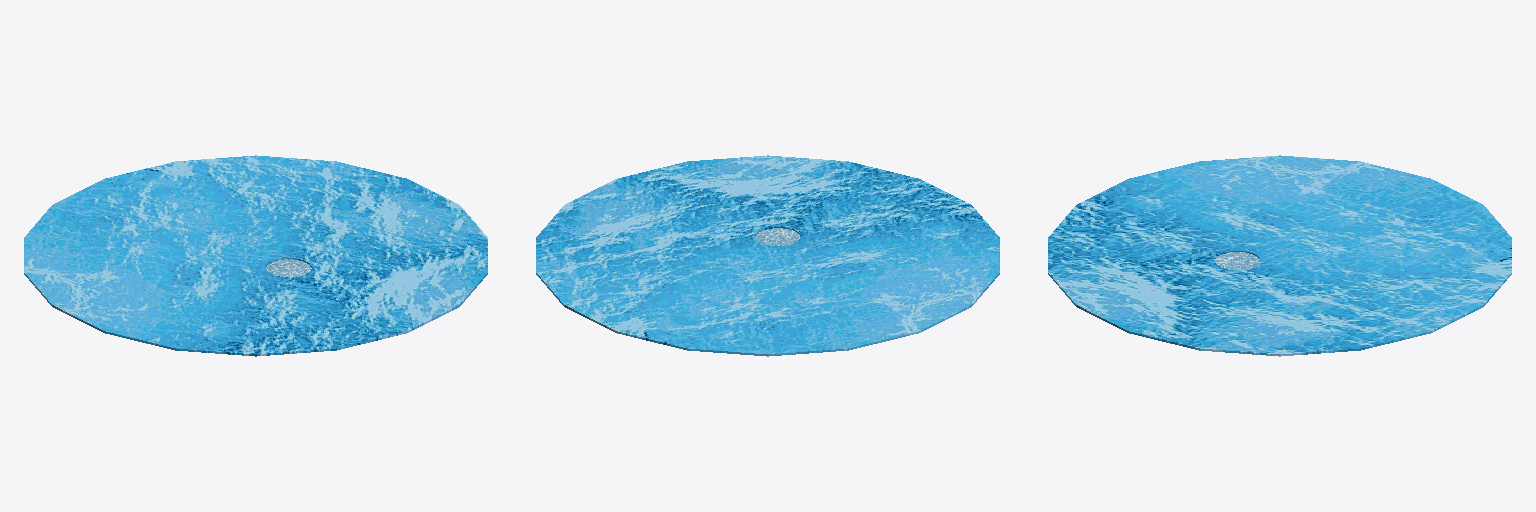
3 views of the same model, side by side, from view 1: azimuth 30°, elevation 25°; view 2: azimuth 150°, elevation 25°; view 3: azimuth 270°, elevation 25° (orthographic).
Visible parts, largest first — view 1: Cylinder001, Cylinder002; view 2: Cylinder001, Cylinder002; view 3: Cylinder001, Cylinder002.
Part boxes in pixels (bbox=[...]): Cylinder001: bbox=[24, 155, 487, 356]; Cylinder002: bbox=[266, 259, 310, 276]; Cylinder001: bbox=[536, 155, 999, 356]; Cylinder002: bbox=[755, 228, 799, 245]; Cylinder001: bbox=[1048, 155, 1511, 356]; Cylinder002: bbox=[1215, 252, 1259, 269].
Size of the model in its own units: 284 by 1.39 by 280.
2 materials, 2 textured.